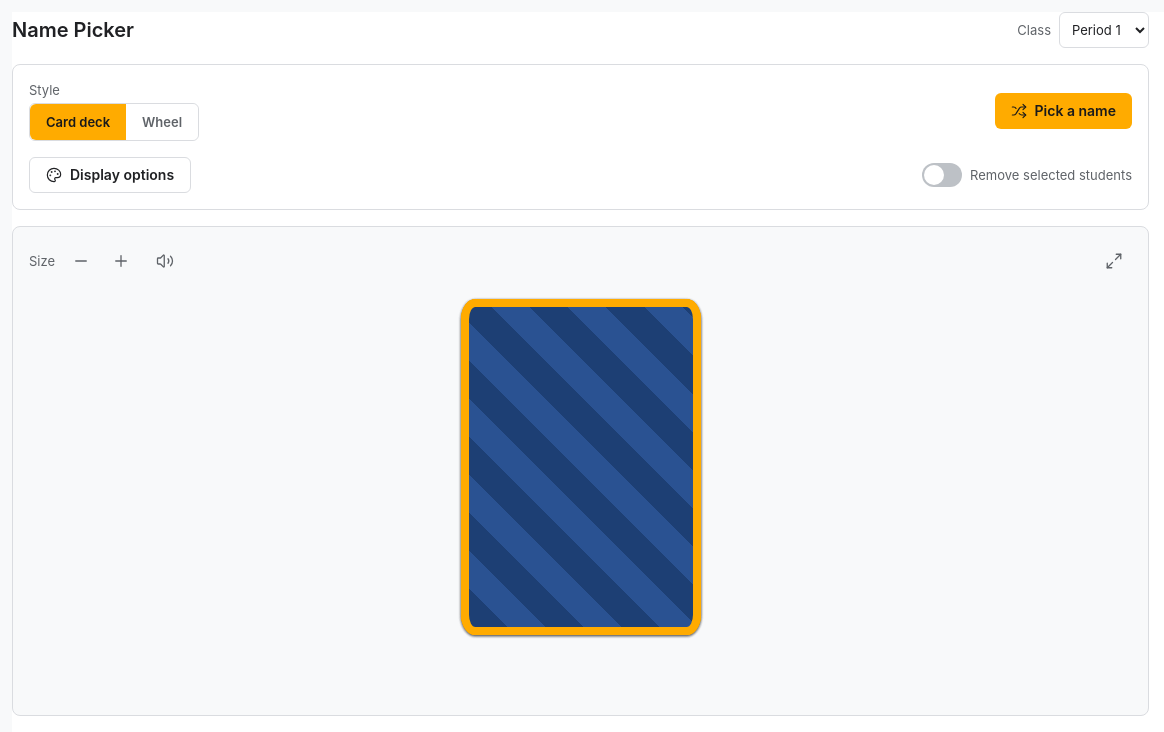
Test case: NamePickerPage › keeps the selected student on the wheel until the next spin
This screenshot has width=1164, height=732.
Expected: the button "Pick a name" is shown, 995,93 -> 1132,129
Click the button "Wheel": {"x": 162, "y": 122} 126,104 -> 198,140
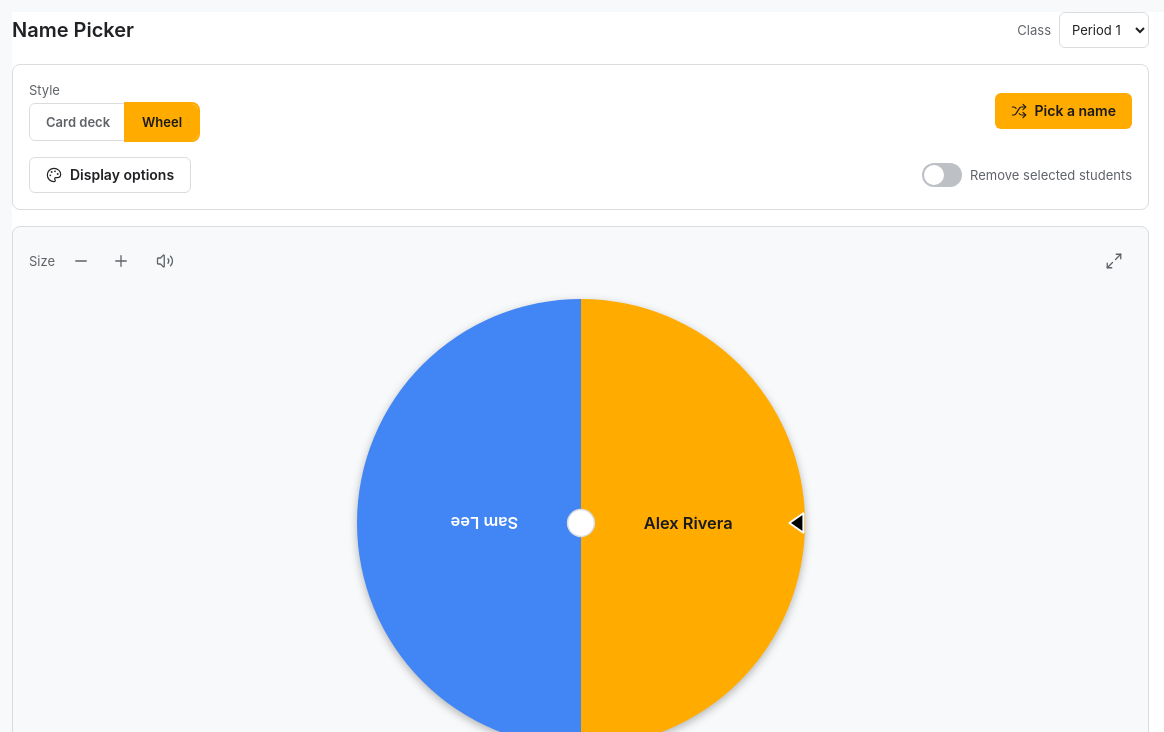
Click the switch named "Remove selected students": {"x": 942, "y": 175} 922,163 -> 962,187
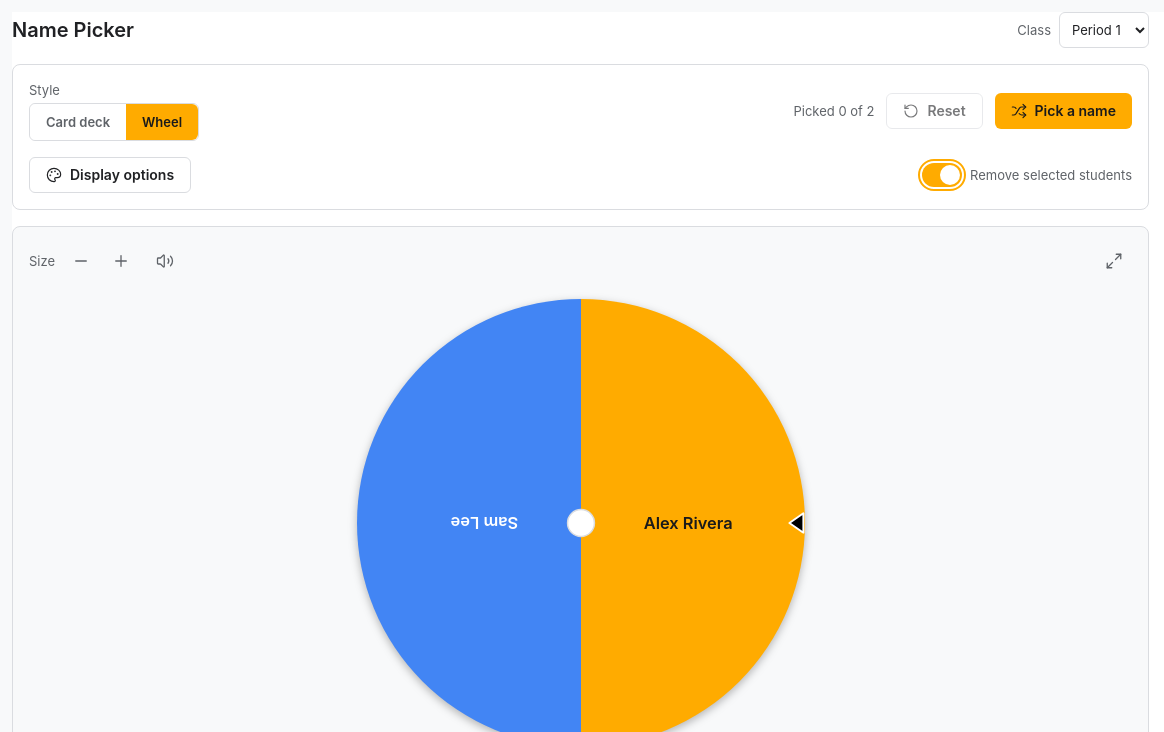
# First draw: both names still on the wheel (the winner is not yet removed).
Click the button "Pick a name": {"x": 1063, "y": 111} 995,93 -> 1132,129
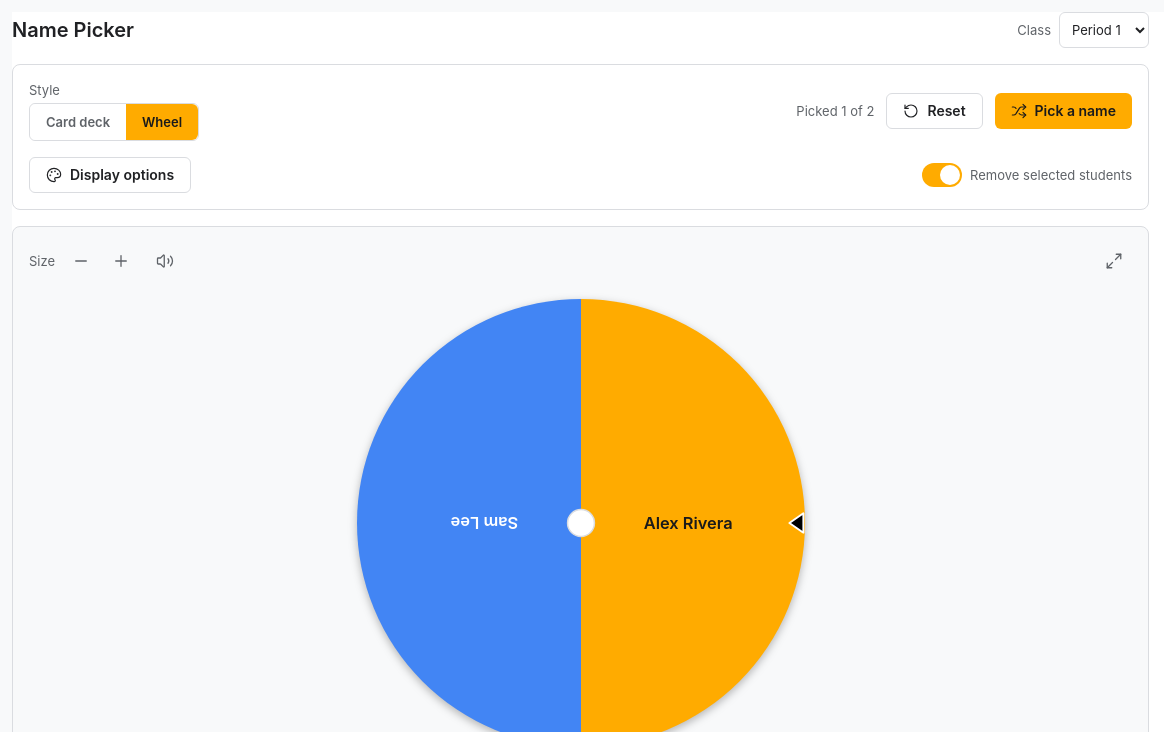
Expected: the text "Alex Rivera" is shown, 643,513 -> 732,533
Expected: the text "Sam Lee" is shown, 450,513 -> 518,533
# Second draw: the first winner is now removed, leaving one segment.
Click the button "Pick a name": {"x": 1063, "y": 111} 995,93 -> 1132,129
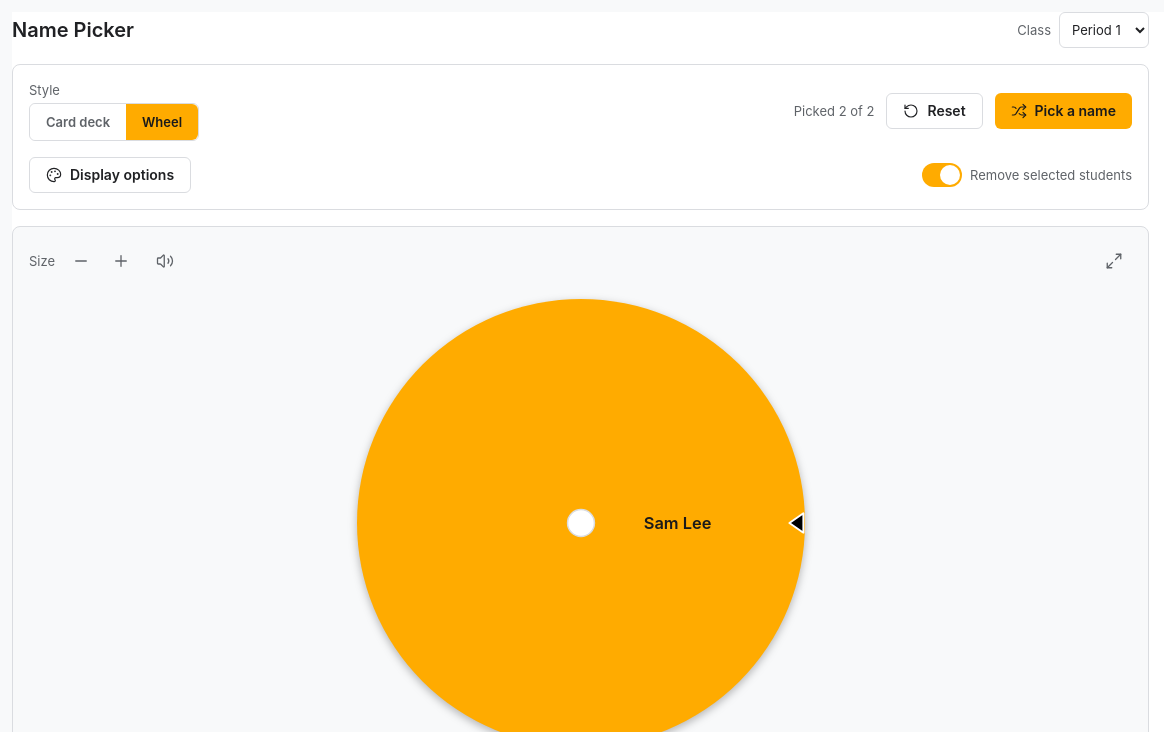
Result: the text "Picked 2 of 2" is shown at 794,102 -> 874,120
